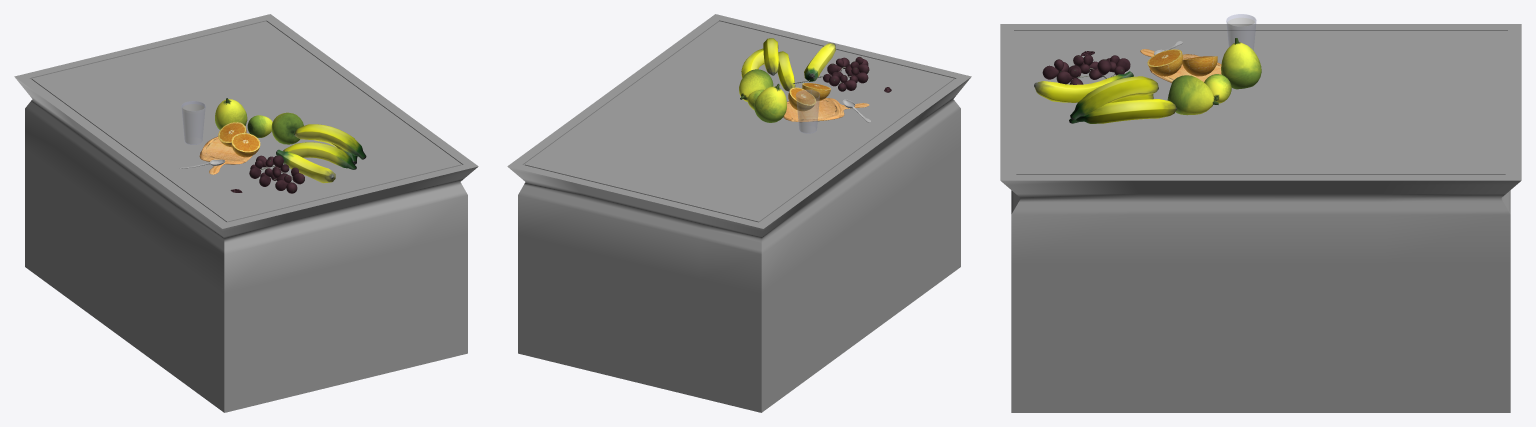
The model's file is healthy_breakfast.glb.
3 renders of one model, left to right at view 1: azimuth 30°, elevation 25°; view 2: azimuth 150°, elevation 25°; view 3: azimuth 270°, elevation 25°, orthographic. The views are drawn at different scales.
Visible parts, largest first — view 1: mesa_13, banana_2_5, banana_3, Jugo_9, Tabla_16, banana_1_4, Limon_2_12, Limon_1_11, naranja2_1_15, Limon_10, naranja2_14; view 2: mesa_13, Tabla_16, Limon_1_11, Jugo_9, Limon_2_12, banana_1_4, naranja2_14, banana_2_5, banana_3; view 3: mesa_13, banana_2_2_6, banana_2_5, Limon_1_11, Limon_2_12, banana_1_4, Jugo_9, naranja2_1_15, naranja2_14, Tabla_16, Limon_10.
Boxes of the visible parts, x1,y1,x2,y2 form: mesa_13: (14,14,478,412); banana_2_5: (294,124,366,159); banana_3: (283,142,356,169); Jugo_9: (181,101,205,144); Tabla_16: (199,136,251,174); banana_1_4: (276,149,335,183); Limon_2_12: (271,112,303,144); Limon_1_11: (215,98,247,129); naranja2_1_15: (231,133,260,157); Limon_10: (247,115,272,137); naranja2_14: (218,122,246,147); mesa_13: (507,14,971,412); Tabla_16: (783,98,869,122); Limon_1_11: (754,83,786,122); Jugo_9: (796,90,819,133); Limon_2_12: (739,69,773,101); banana_1_4: (804,43,835,81); naranja2_14: (788,87,816,111); banana_2_5: (763,38,778,75); banana_3: (777,51,795,91); mesa_13: (1000,24,1521,412); banana_2_2_6: (1076,99,1176,123); banana_2_5: (1070,76,1158,120); Limon_1_11: (1221,38,1261,89); Limon_2_12: (1167,75,1218,115); banana_1_4: (1034,71,1133,102); Jugo_9: (1226,14,1256,50); naranja2_1_15: (1147,49,1183,76); naranja2_14: (1182,56,1217,76); Tabla_16: (1140,49,1221,83); Limon_10: (1204,74,1231,103).
Size of the model in its own units: 44.86 by 37.83 by 63.12.
10 materials, 6 textured.
